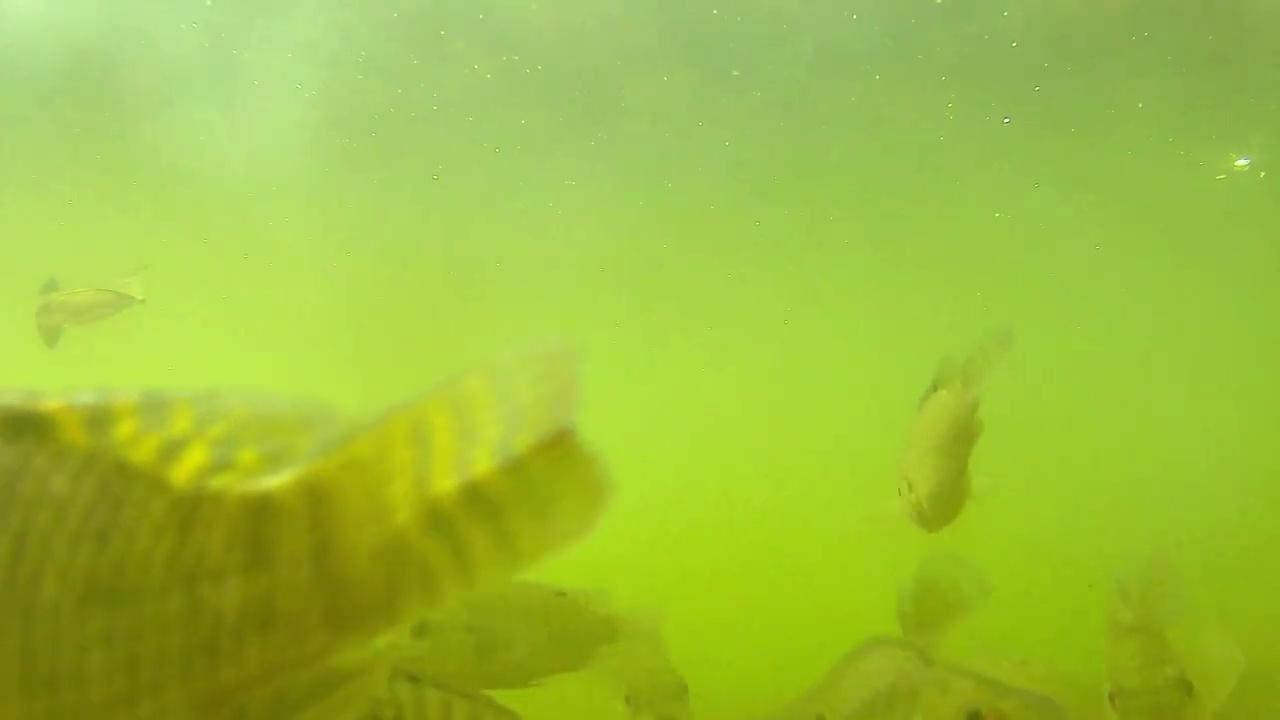Tilapia: (893, 358, 1018, 528), (5, 268, 153, 358)
